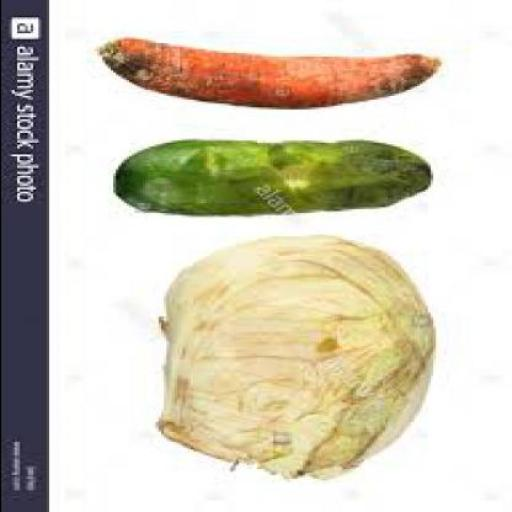biodegradable: (157, 232, 437, 478), (98, 33, 446, 107), (114, 137, 434, 213)
